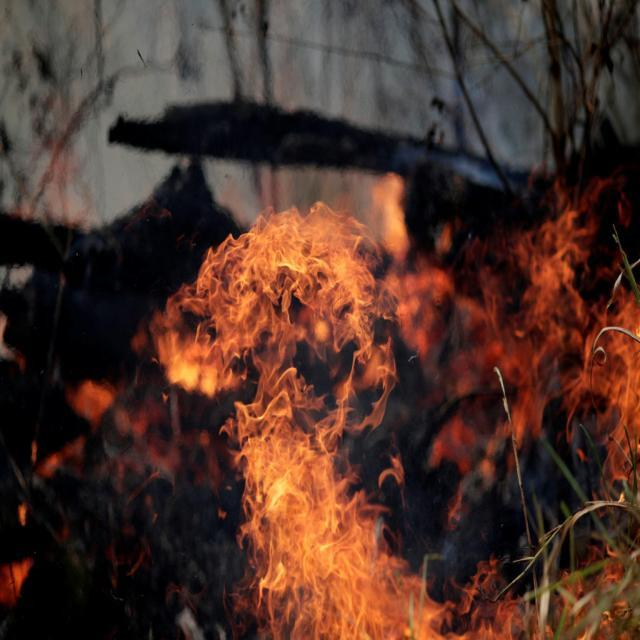Fire: (124, 185, 552, 640), (380, 156, 640, 524)
